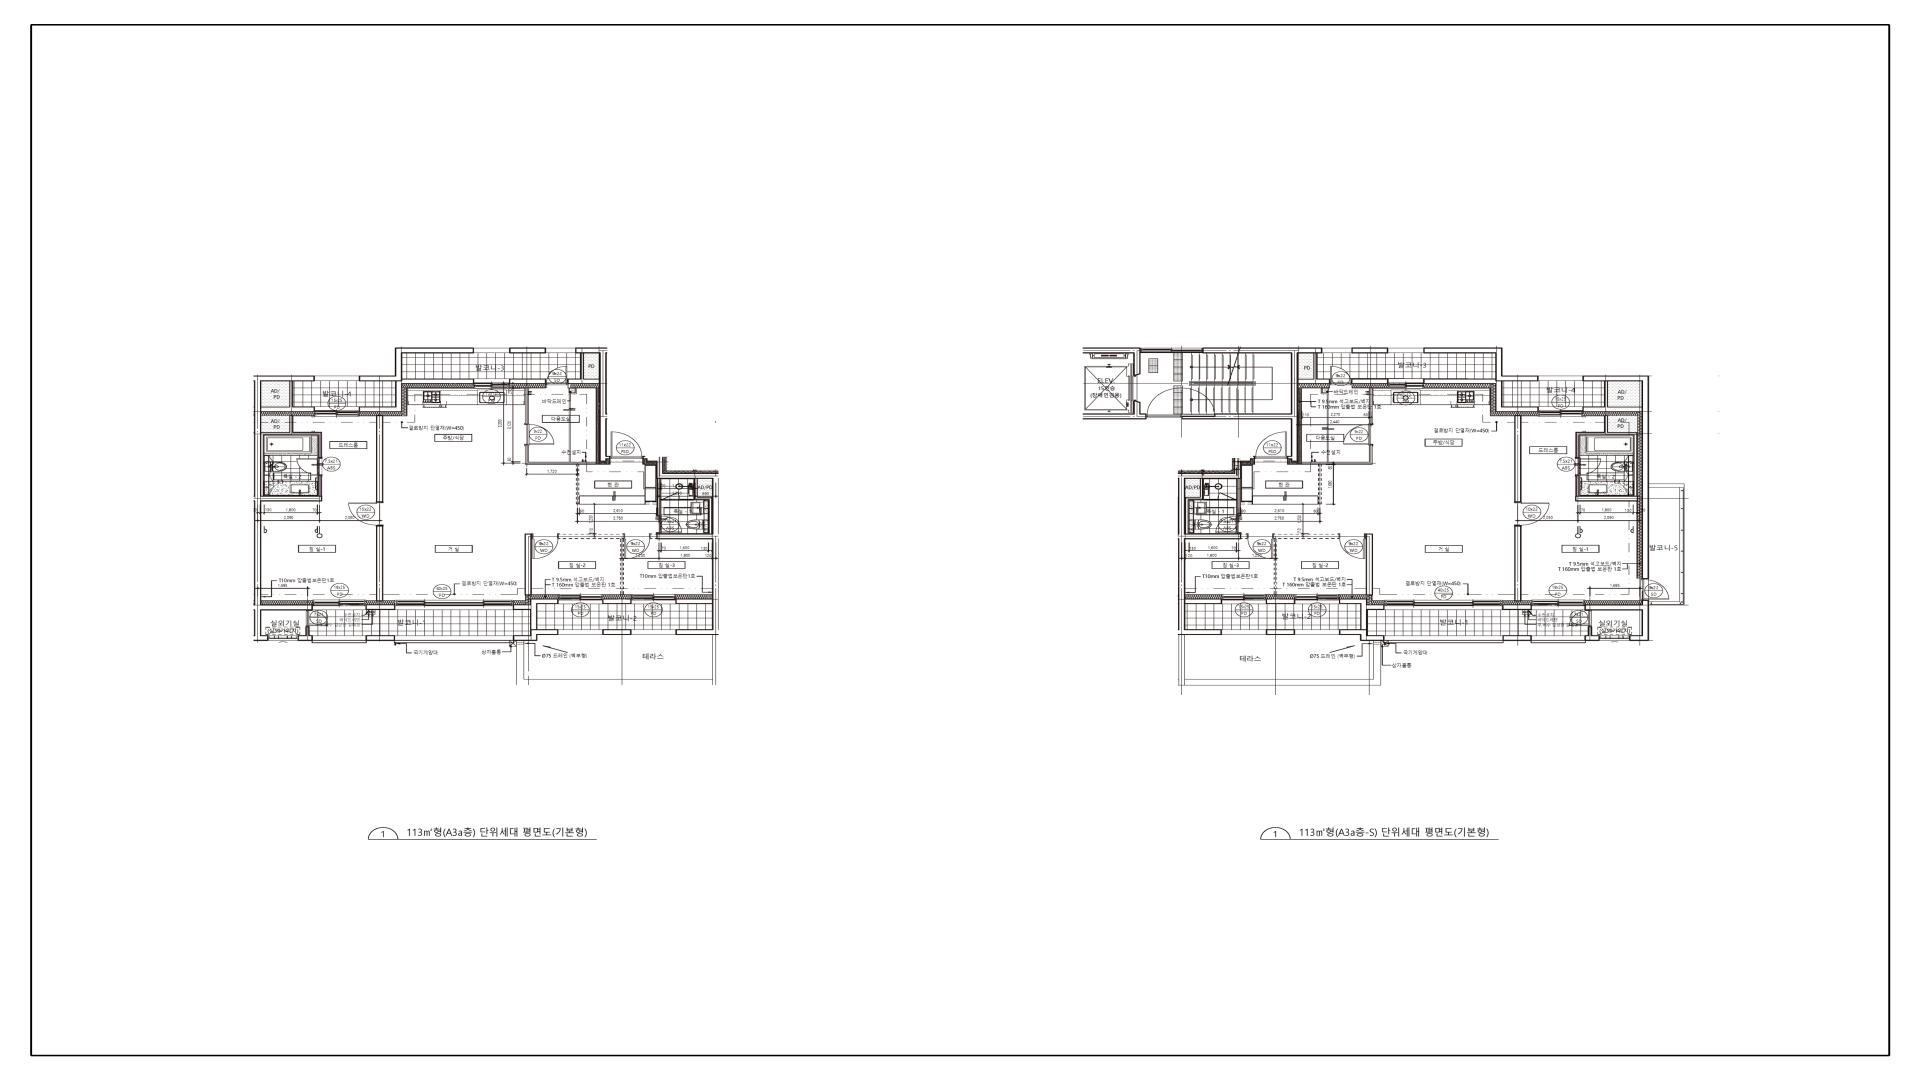door: (1146, 387, 1181, 420), (1255, 431, 1287, 459), (610, 432, 643, 459), (349, 502, 384, 527), (1514, 502, 1550, 526), (624, 533, 651, 559), (532, 533, 559, 559), (1339, 533, 1366, 559), (1247, 534, 1274, 559), (524, 424, 554, 445), (1343, 424, 1373, 445), (1642, 579, 1670, 600), (1214, 515, 1242, 534), (656, 515, 682, 534), (1576, 458, 1602, 476), (296, 458, 322, 475), (545, 366, 568, 385), (1330, 366, 1352, 385), (1568, 611, 1592, 627), (306, 611, 328, 627), (661, 492, 680, 501), (1218, 492, 1236, 501)
wall: (1583, 376, 1685, 641), (254, 376, 322, 641), (1181, 347, 1322, 462), (1178, 456, 1255, 635), (643, 456, 718, 635), (1575, 415, 1638, 502), (261, 415, 322, 496), (1301, 445, 1373, 504), (525, 445, 596, 504), (576, 347, 611, 462), (559, 534, 624, 595), (1274, 534, 1339, 595), (359, 347, 474, 381), (359, 379, 474, 412), (1424, 348, 1538, 381), (1424, 379, 1538, 412), (1583, 381, 1642, 412), (1185, 479, 1218, 534), (680, 479, 713, 534), (261, 381, 315, 412), (1083, 348, 1141, 376), (1339, 599, 1384, 629), (514, 599, 558, 629), (1083, 400, 1146, 420), (568, 353, 599, 384), (1298, 354, 1330, 384), (1514, 415, 1522, 502), (376, 415, 383, 502), (1514, 526, 1522, 601), (1339, 629, 1385, 641), (514, 629, 558, 641), (376, 527, 383, 602), (525, 534, 532, 596), (1366, 534, 1373, 596), (298, 626, 313, 641), (1352, 348, 1388, 354), (1585, 627, 1600, 641), (1236, 479, 1241, 516), (509, 379, 546, 384), (509, 348, 546, 353), (1185, 599, 1222, 604), (676, 599, 712, 604), (1352, 379, 1388, 384), (366, 635, 395, 641), (1503, 635, 1532, 641), (1503, 604, 1531, 610), (1266, 629, 1294, 635), (603, 630, 632, 635), (366, 605, 395, 610), (1369, 388, 1373, 424), (657, 479, 661, 515), (603, 599, 631, 604), (1267, 599, 1294, 604), (318, 475, 322, 496), (1241, 534, 1247, 539)
window: (1384, 600, 1503, 610), (395, 600, 514, 610), (1385, 635, 1503, 643), (395, 636, 514, 643), (1531, 600, 1585, 611), (312, 600, 366, 610), (1221, 594, 1267, 604), (1538, 407, 1583, 417), (1294, 594, 1339, 604), (558, 594, 603, 604), (631, 594, 676, 604), (1140, 347, 1203, 354), (315, 407, 359, 417), (1532, 635, 1585, 643), (313, 636, 366, 643), (1388, 379, 1424, 389), (474, 379, 510, 389), (1294, 629, 1339, 635), (1222, 629, 1266, 635), (1538, 376, 1583, 381), (558, 630, 603, 635), (631, 630, 676, 635), (315, 376, 359, 381), (1388, 348, 1424, 354), (1322, 348, 1352, 354), (474, 348, 509, 353), (1600, 635, 1629, 641), (546, 348, 576, 353), (268, 636, 298, 641)
